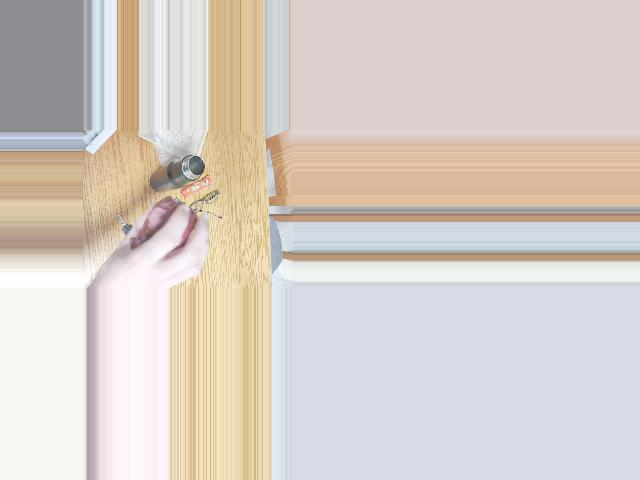onion: (146, 204, 196, 251)
